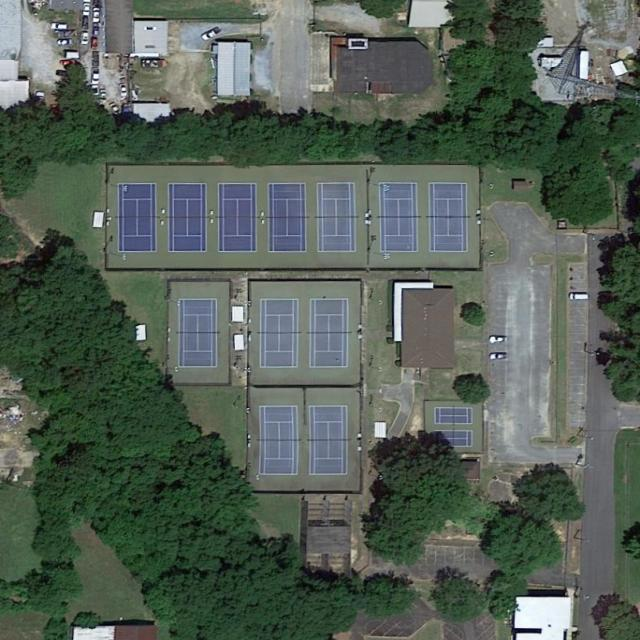small-vehicle: (200, 26, 224, 42), (109, 103, 122, 115), (91, 68, 100, 85), (489, 353, 508, 361), (488, 336, 507, 344), (93, 7, 102, 23), (60, 59, 78, 67), (569, 294, 589, 301), (51, 22, 67, 30), (92, 51, 100, 67), (56, 39, 73, 46), (82, 3, 91, 16), (80, 32, 89, 45), (119, 84, 127, 97), (82, 17, 89, 31), (92, 36, 99, 50), (100, 88, 108, 99), (93, 24, 100, 36), (91, 85, 98, 97)
